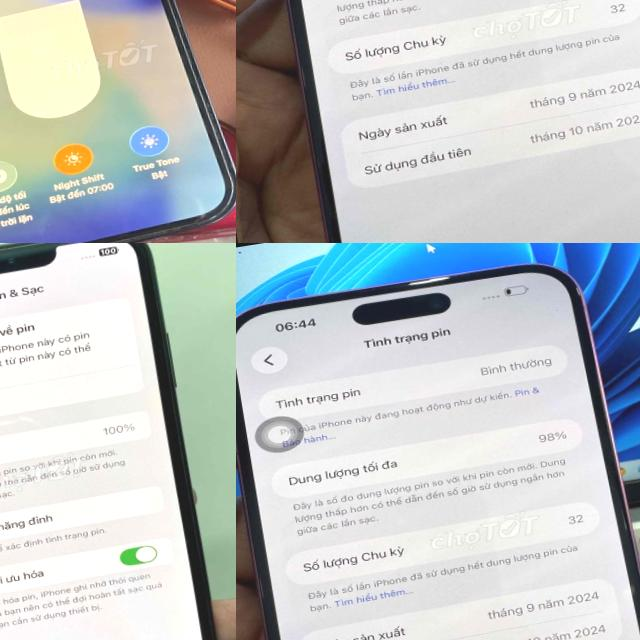gen_12_13: (0, 0, 236, 243)
gen_16: (236, 243, 640, 640), (236, 0, 640, 243)
gen_x_xs: (0, 243, 236, 640)
